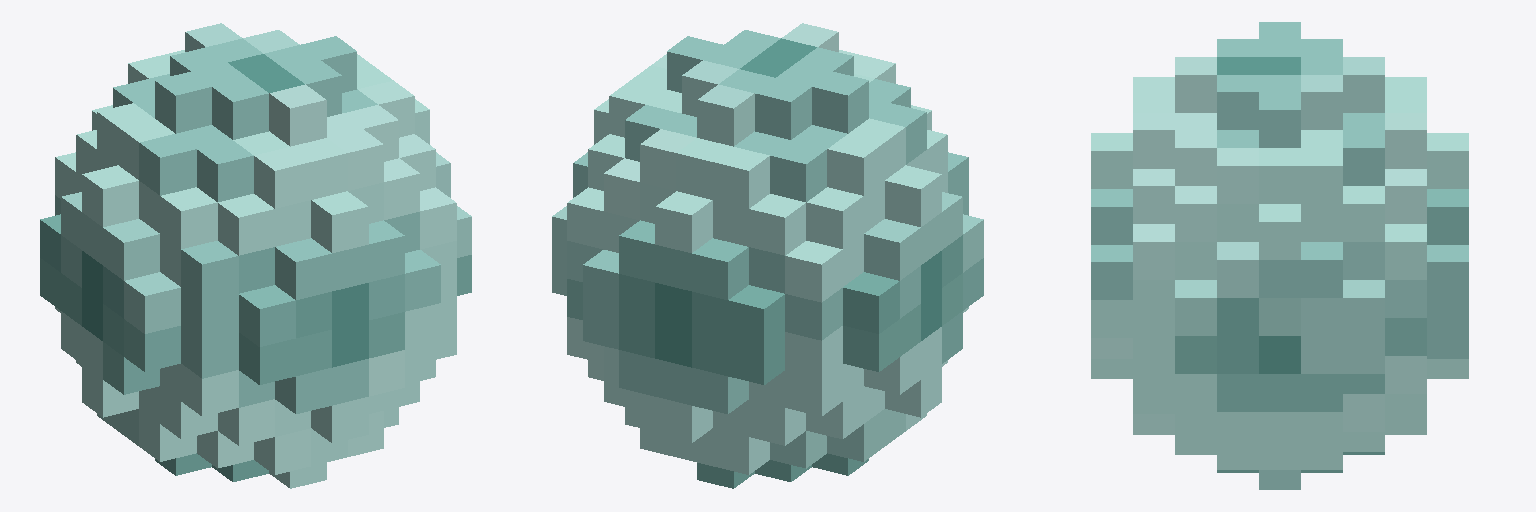
3 renders of one model, left to right at view 1: azimuth 30°, elevation 25°; view 2: azimuth 150°, elevation 25°; view 3: azimuth 270°, elevation 25°, orthographic.
Parts seen in each view (by area): view 1: object 1; view 2: object 1; view 3: object 1.
Boxes of the visible parts, <box> form: object 1: <box>40,23,471,488</box>; object 1: <box>552,23,983,488</box>; object 1: <box>1091,22,1468,489</box>.
Bounding box in the file's own units: 0.9 × 1 × 0.9.
1 materials, 1 textured.